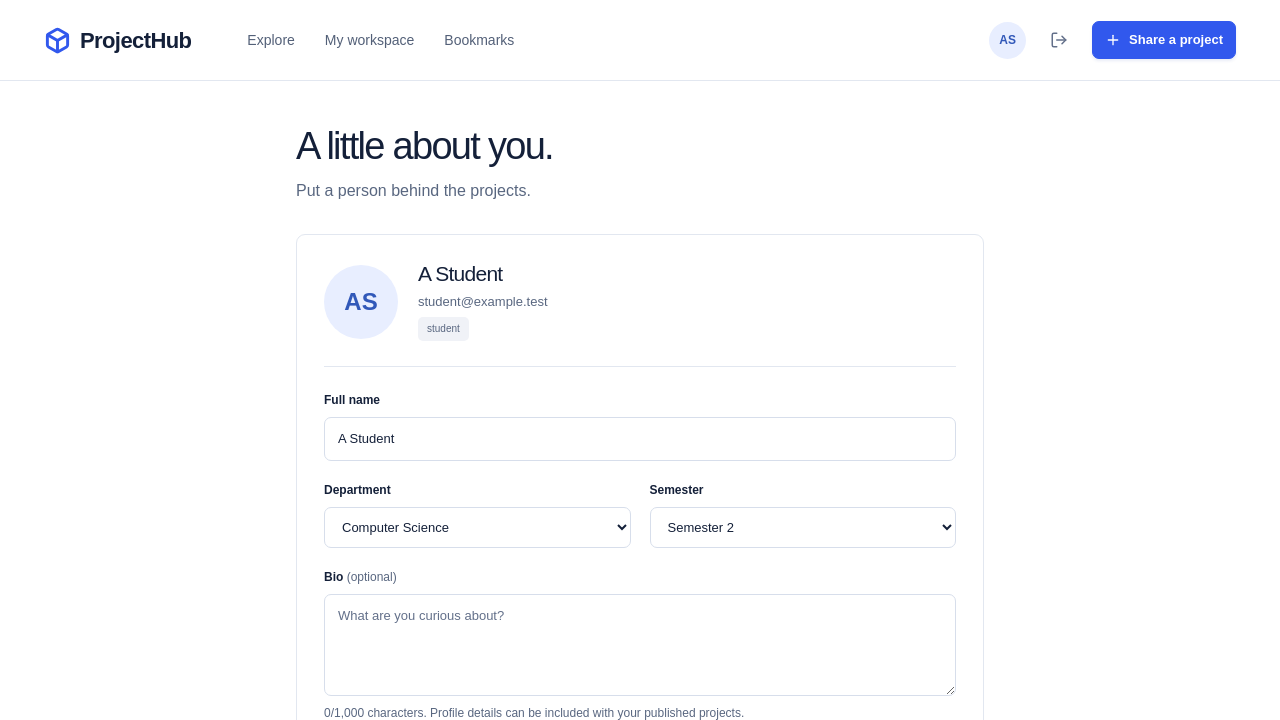
it: expired-session profile save retains name and bio with a focused error
Replace the text in the field labelled "Full name" with "Unsaved Student" at {"x": 640, "y": 439}, box [324,417,956,461]
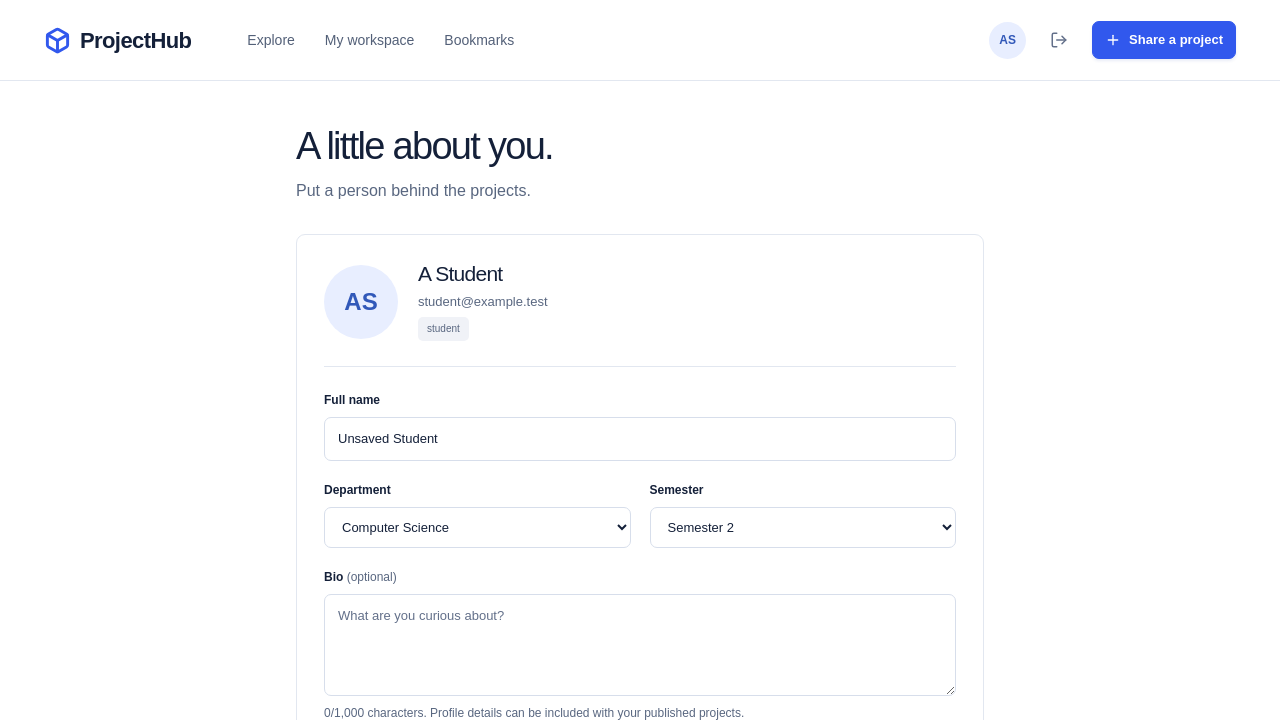
Type "My unsaved biography" into the text box labelled "Bio (optional)" at {"x": 640, "y": 645}, box [324,594,956,696]
(page scrolled)
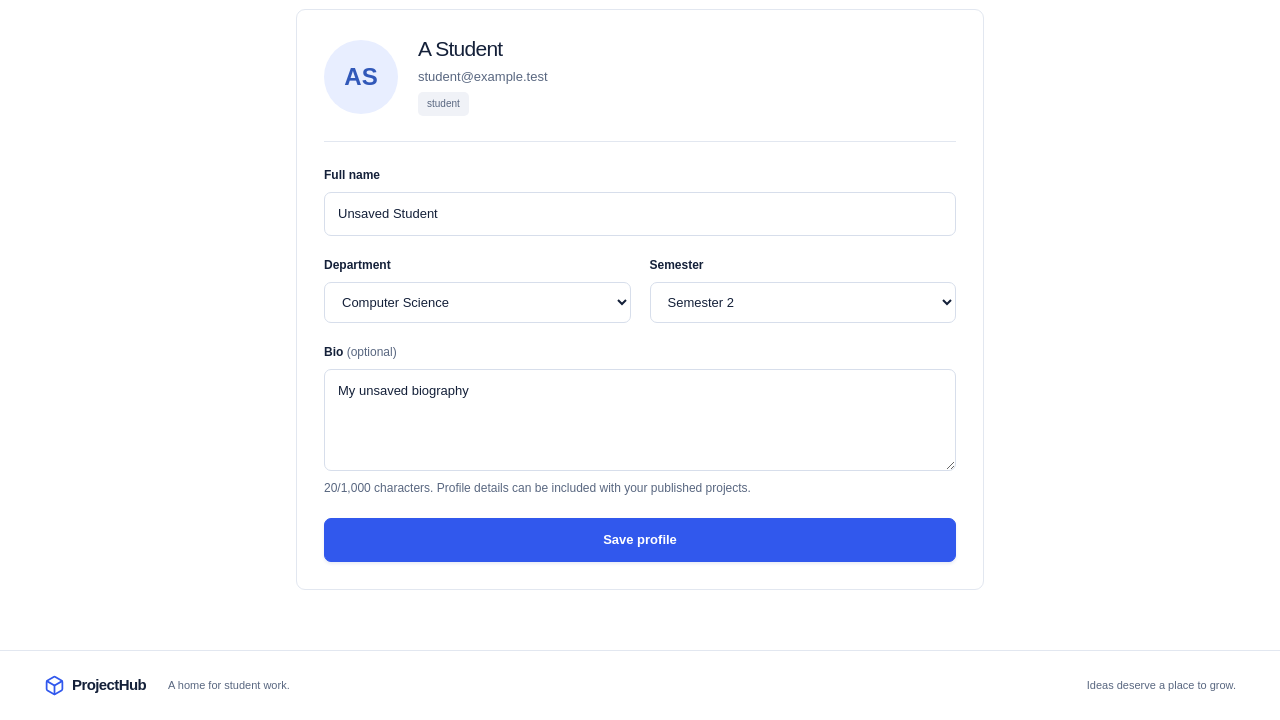
Submit the form labelled "Full name", box [324,166,956,562]
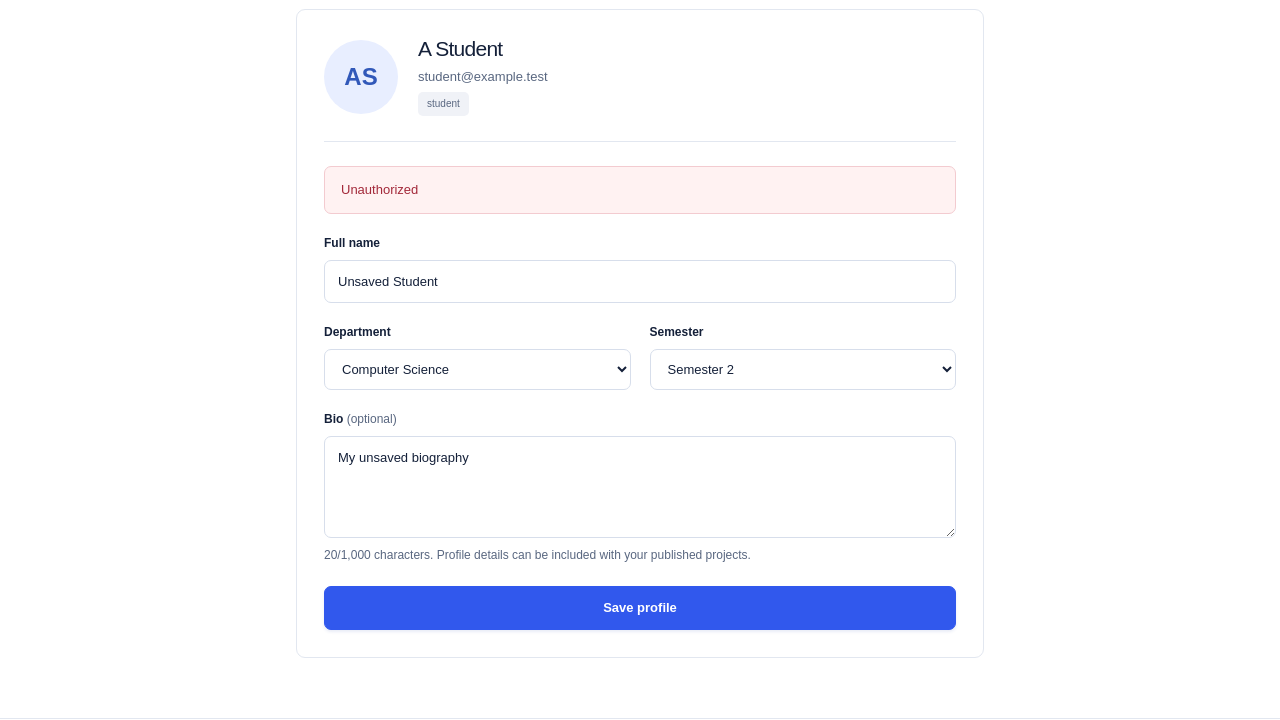
Now the message "Unauthorized" is shown, box [324,166,956,214]
